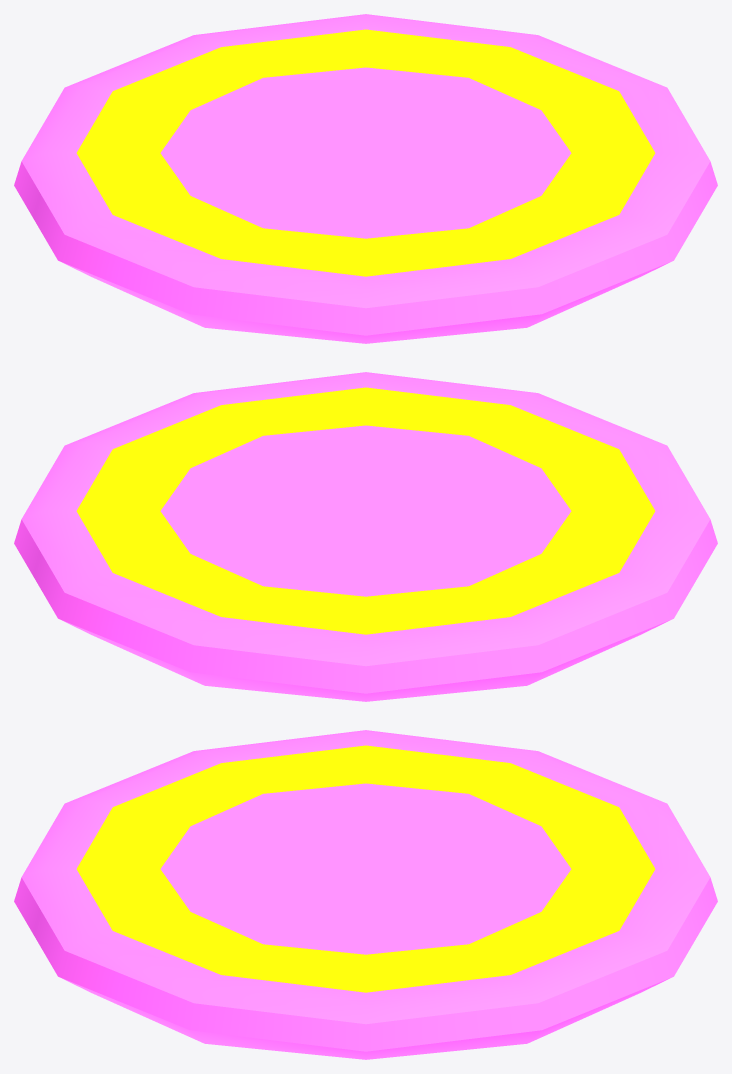
File: CircleCarpet.fbx
3 renders of one model, top to bottom at view 1: azimuth 30°, elevation 25°; view 2: azimuth 150°, elevation 25°; view 3: azimuth 270°, elevation 25°, orthographic.
Visible parts, largest first — view 1: Cylinder; view 2: Cylinder; view 3: Cylinder.
Part boxes in pixels (left/top/right/bottom): Cylinder: left=14, top=14, right=717, bottom=343; Cylinder: left=14, top=372, right=717, bottom=701; Cylinder: left=14, top=730, right=717, bottom=1059.
Size of the model in its own units: 310 by 31.12 by 307.
